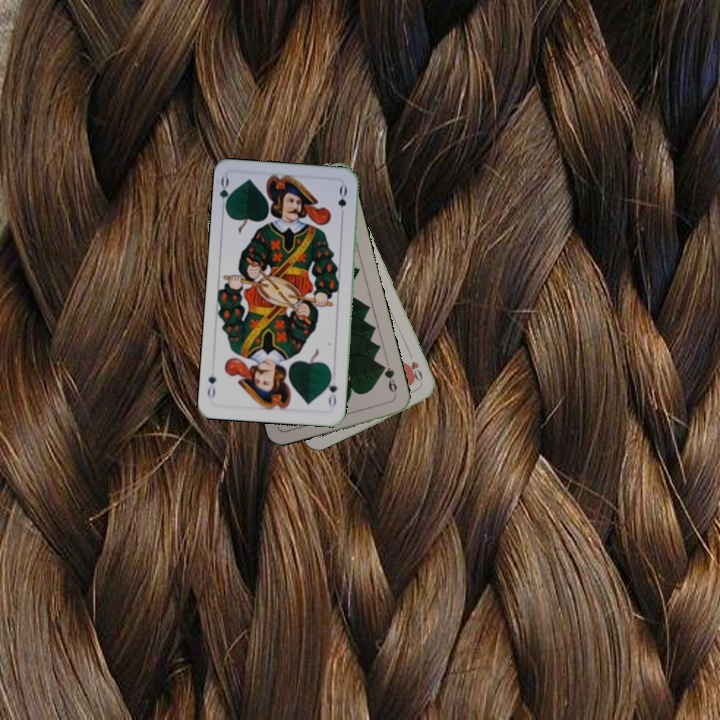G9: (377, 361, 399, 399)
GO: (215, 173, 235, 214), (323, 370, 340, 409)
HO: (404, 347, 425, 386)
